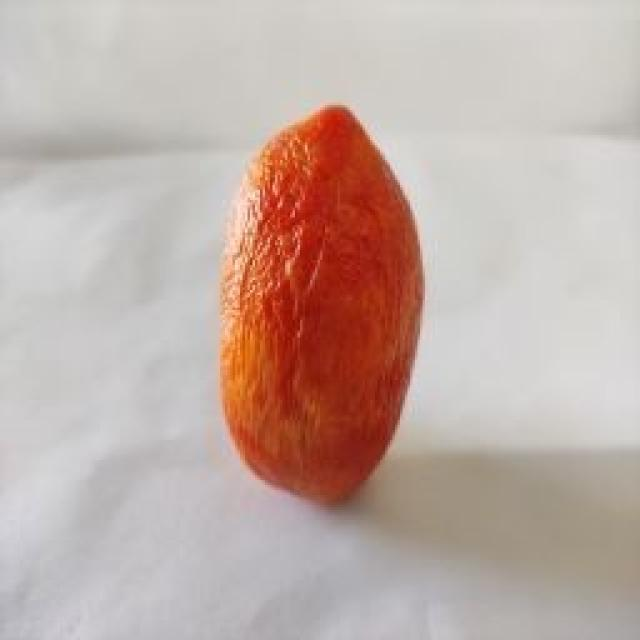overripe: (218, 100, 428, 507)
